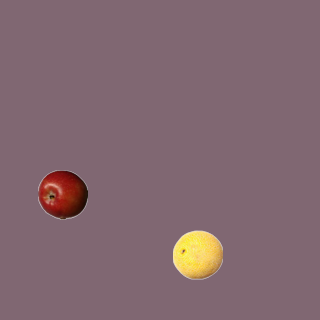Apple Braeburn: (37, 169, 87, 219)
Cantaloupe 1: (172, 229, 222, 279)
